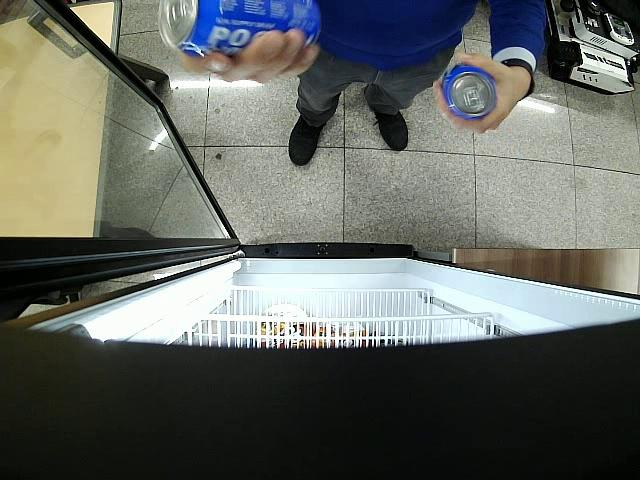00_hand: (183, 28, 321, 84), (434, 52, 510, 135)
13_pocariSweat: (158, 0, 321, 52), (441, 65, 497, 118)
